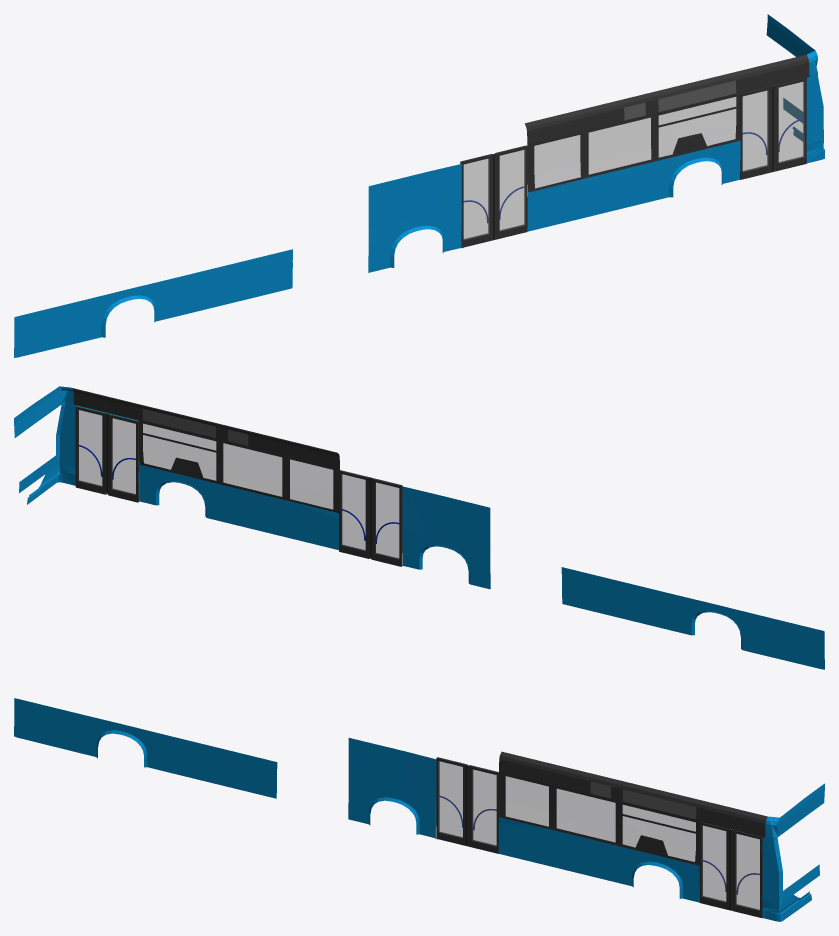
The model's file is mercedes_citaro_g.obj.
3 renders of one model, top to bottom at view 1: azimuth 30°, elevation 25°; view 2: azimuth 150°, elevation 25°; view 3: azimuth 330°, elevation 25°, orthographic. The views are drawn at different scales.
Parts seen in each view (by area): view 1: Plane05, door_right01, door_left, door_left01, door_right; view 2: Plane05, door_right, door_left, door_right01, door_left01; view 3: Plane05, door_left, door_left01, door_right, door_right01.
Boxes of the visible parts, x1=… form: Plane05: x1=14, y1=14, x2=824, y2=357; door_right01: x1=494, y1=145, x2=527, y2=239; door_left: x1=740, y1=86, x2=773, y2=179; door_left01: x1=460, y1=154, x2=494, y2=247; door_right: x1=774, y1=78, x2=806, y2=171; Plane05: x1=14, y1=386, x2=824, y2=669; door_right: x1=75, y1=406, x2=107, y2=494; door_left: x1=107, y1=414, x2=139, y2=502; door_right01: x1=339, y1=470, x2=370, y2=558; door_left01: x1=371, y1=477, x2=402, y2=566; Plane05: x1=14, y1=698, x2=824, y2=921; door_left: x1=699, y1=822, x2=731, y2=910; door_left01: x1=436, y1=757, x2=467, y2=846; door_right: x1=731, y1=829, x2=762, y2=917; door_right01: x1=468, y1=765, x2=498, y2=853.
Size of the model in its own units: 16.9 by 2.19 by 1.95.
